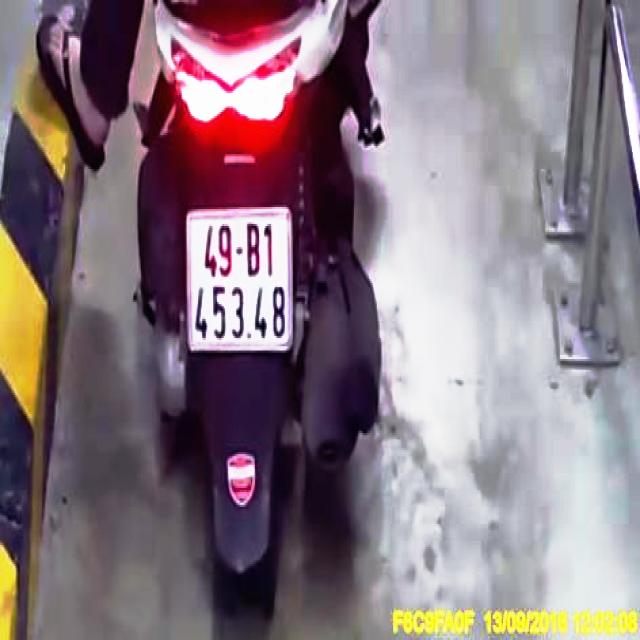license_plate: (188, 211, 293, 351)
